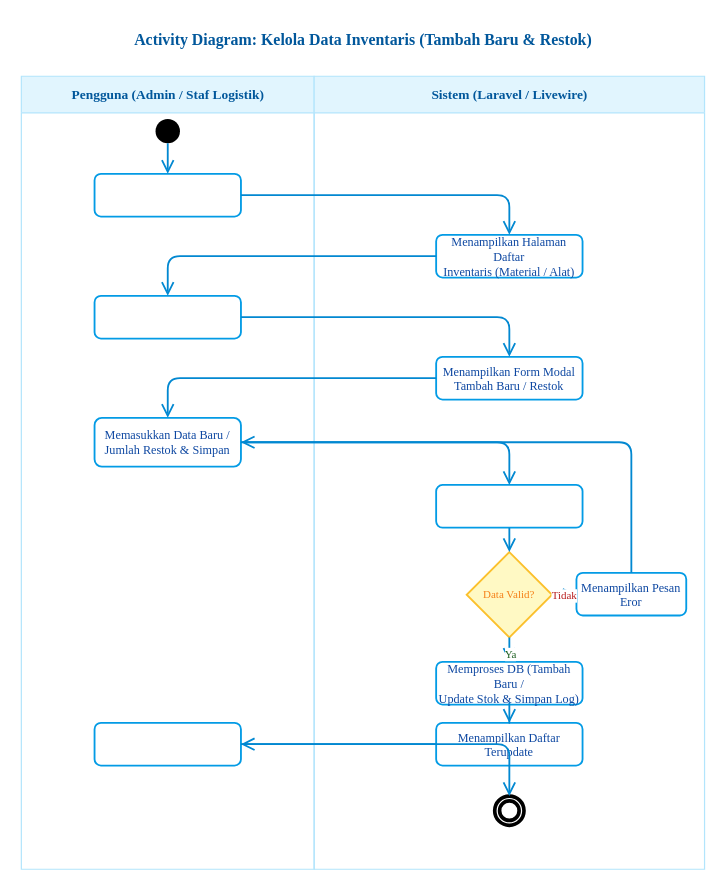
This 726x891 diagram has some shape labels left out. Here are the shapes that lost their labels. From the top down, the box of each, then its label:
(93, 172, 241, 217): Membuka Menu Inventaris (Material / Alat)
(93, 294, 241, 339): Mengklik Tambah Baru / Tombol Restok pada Item
(435, 483, 583, 528): Memvalidasi Input Data Barang
(93, 721, 241, 766): Menerima Notifikasi Sukses
